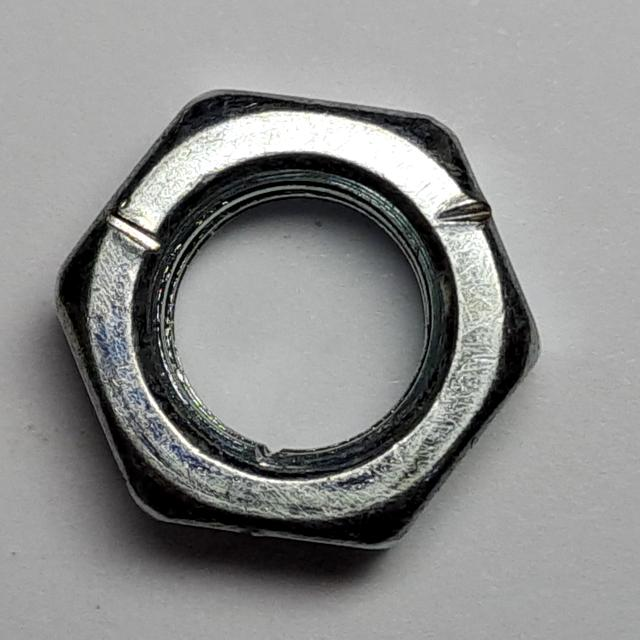Scratches: (42, 79, 555, 572)
